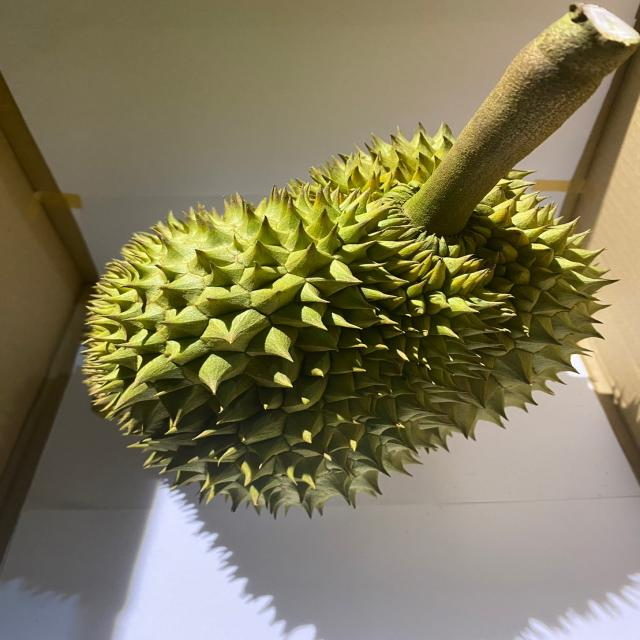immature: (66, 119, 624, 523)
